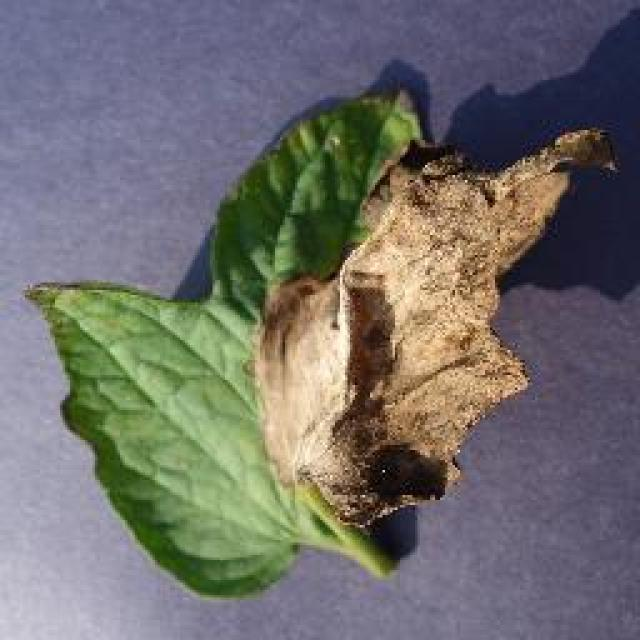Tomato Late Blight: (214, 234, 584, 484)
